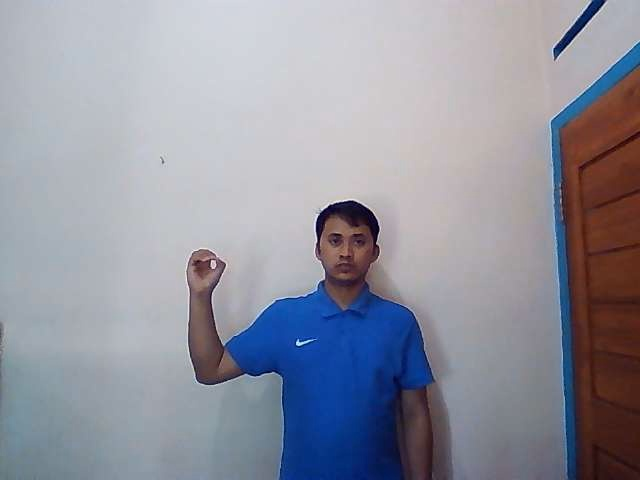O: (184, 247, 227, 293)
